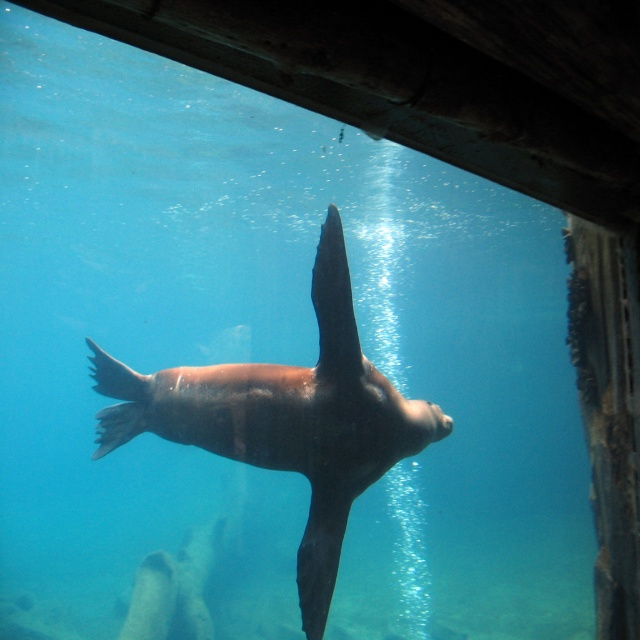Fish: (85, 202, 454, 640)
